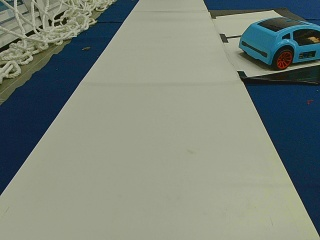car: (238, 16, 318, 68)
